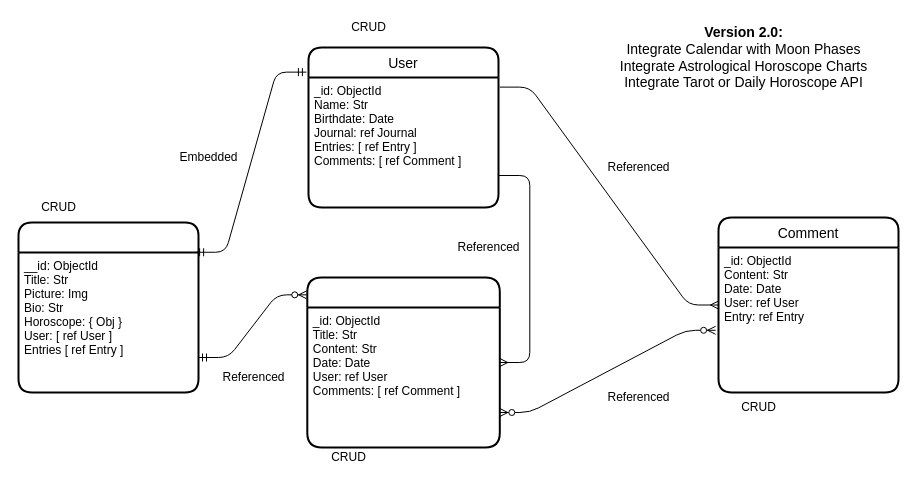
Image size: 916x484. Some labels were removed from this diagram. The box of each missing label's shape, as (x1, y1, x2, y2) in pixels:
Entry: (306, 276, 500, 448)
Journal: (17, 221, 199, 393)
